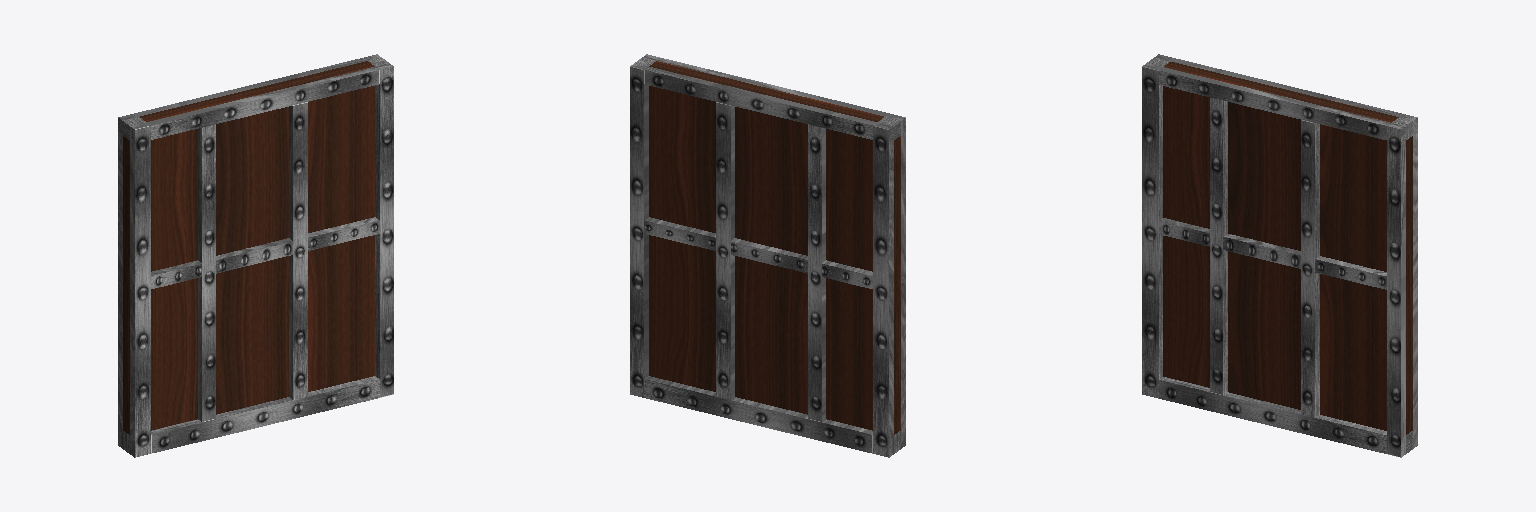
3 views of the same model, side by side, from view 1: azimuth 30°, elevation 25°; view 2: azimuth 150°, elevation 25°; view 3: azimuth 330°, elevation 25° (orthographic).
Parts seen in each view (by area): view 1: Cube; view 2: Cube; view 3: Cube.
Part boxes in pixels (bbox=[...]): Cube: bbox=[118, 54, 393, 457]; Cube: bbox=[630, 54, 905, 457]; Cube: bbox=[1142, 54, 1417, 457].
Size of the model in its own units: 248 by 300 by 27.46.
Materials: 1 (1 with a texture image).